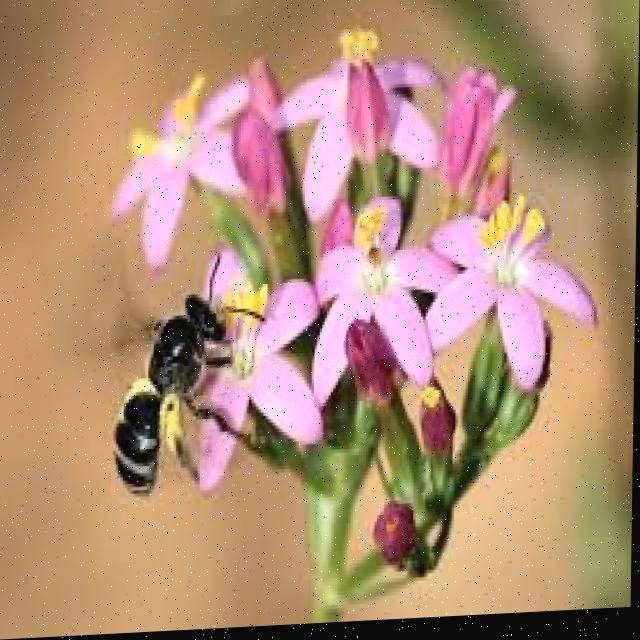Lasioglossum: (101, 244, 262, 506)
